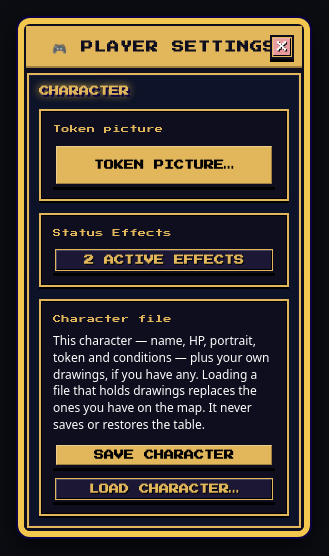
Test case: PlayerSettingsMenu › Status Effects Dropdown › checks selected effects in the dropdown
Click the button "2 Active Effects".
click(164, 260)  # box [53,247,275,273]
(page scrolled)
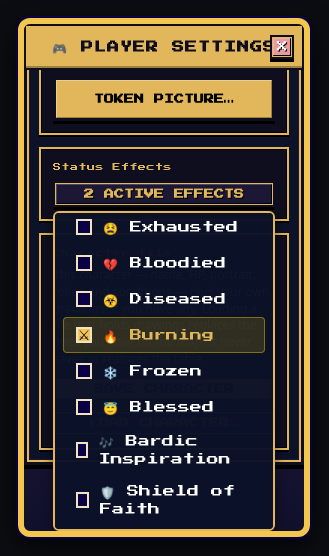
Now the checkbox labelled "🔥 Burning" is checked, box [76,327,92,343]
Now the checkbox labelled "❄️ Frozen" is not checked, box [76,363,92,379]
